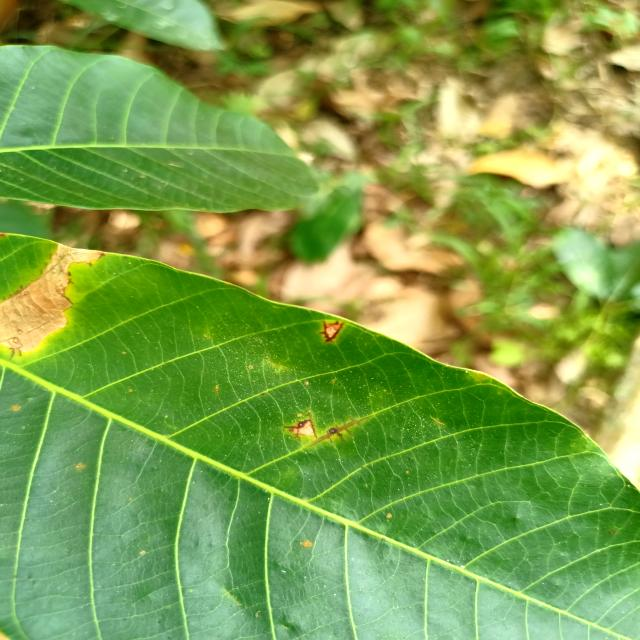Colletotrichum: (328, 428, 338, 434), (298, 422, 304, 427)
Corynespora: (308, 416, 371, 449), (281, 417, 317, 440), (318, 320, 346, 342)
Leaf-Blight: (0, 243, 106, 352), (294, 422, 314, 436)
